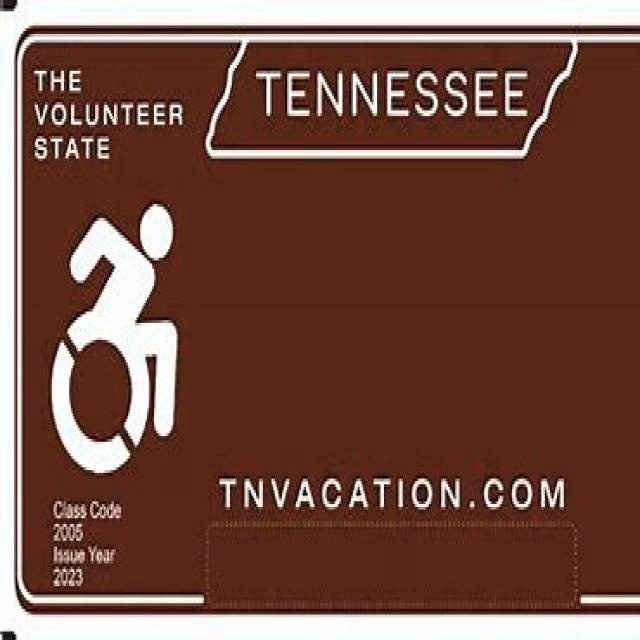ISA: (50, 205, 181, 474)
